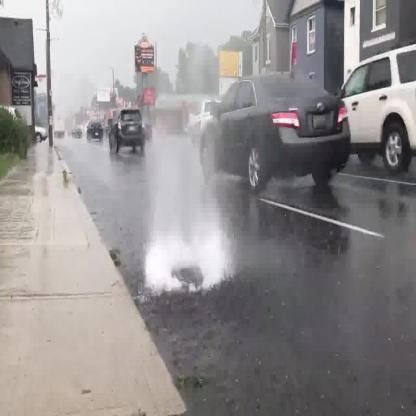drainage overflow-repair-: (121, 154, 230, 333)
